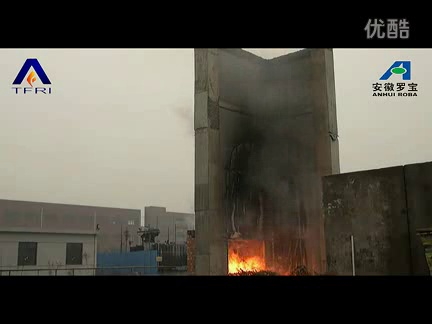fire: (228, 241, 269, 274)
